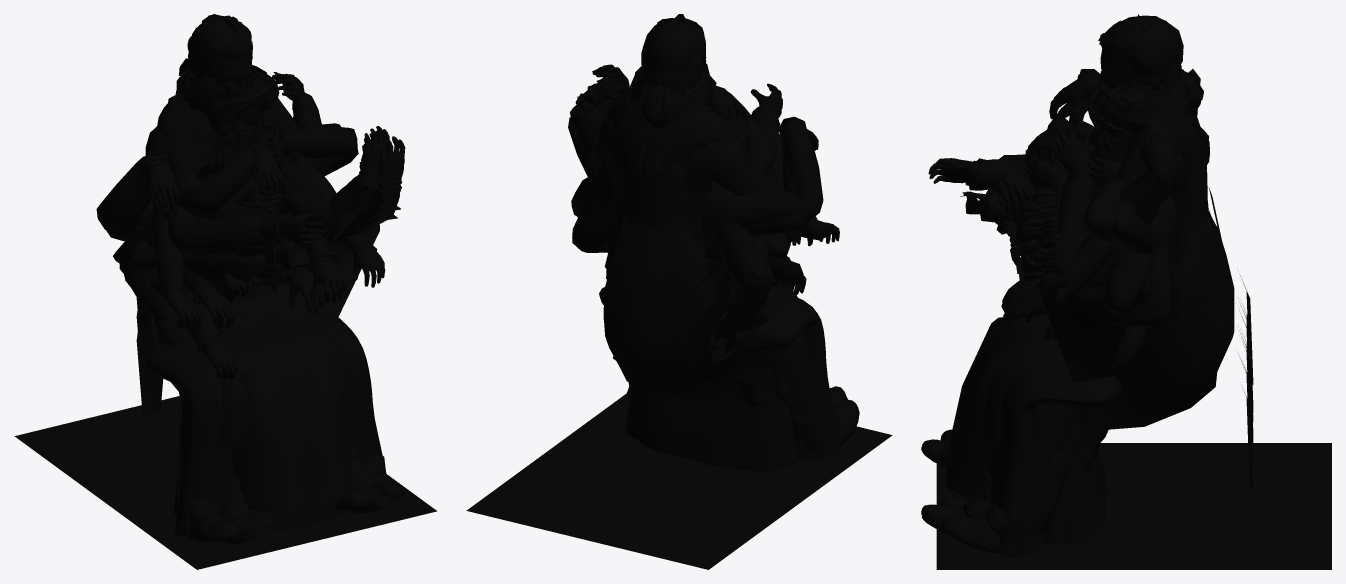
File: orchestra.glb
3 renders of one model, left to right at view 1: azimuth 30°, elevation 25°; view 2: azimuth 150°, elevation 25°; view 3: azimuth 270°, elevation 25°, orthographic. The views are drawn at different scales.
Parts seen in each view (by area): view 1: Female_Adult_10 · body (×2), Contactschaduw, Avondjurk (×3), Business_Male_02 · body (×4), Business_Male_03 · body (×3), Business_Male_04 · body (×6), Business_Male_05 · body (×4), Rok (×2), Business_Male_01 · body (×3), Male_Adult_04 · opacity (×2), Slippen, Business_Male_03 · head (+6 smaller); view 2: Contactschaduw, Female_Adult_10 · body (×2), Avondjurk (×2), Business_Male_03 · body (×4), Business_Female_03 · body (×2), Business_Male_02 · body (×3), Business_Male_04 · body (×4), Business_Male_05 · body (×3), Male_Adult_09 · head, Male_Adult_09 · opacity, Male_Adult_04 · opacity, Business_Male_01 · body (+4 smaller); view 3: Contactschaduw, Female_Adult_10 · body (×2), Business_Male_02 · body (×5), Avondjurk (×2), Business_Male_03 · body (×4), Business_Male_04 · body (×5), Business_Male_05 · body (×4), Business_Female_03 · body, Rok (×2), Male_Adult_04 · opacity (×2), Business_Male_01 · body (×3), Business_Female_02 · body (×3) (+8 smaller).
Boxes of the visible parts, bbox=[...] form: Female_Adult_10 · body (×2): bbox=[150, 119, 379, 518]; Contactschaduw: bbox=[14, 396, 436, 569]; Avondjurk (×3): bbox=[146, 280, 382, 536]; Business_Male_02 · body (×4): bbox=[96, 139, 404, 542]; Business_Male_03 · body (×3): bbox=[119, 122, 393, 543]; Business_Male_04 · body (×6): bbox=[106, 73, 397, 541]; Business_Male_05 · body (×4): bbox=[106, 126, 405, 529]; Rok (×2): bbox=[172, 284, 358, 445]; Business_Male_01 · body (×3): bbox=[123, 141, 401, 521]; Male_Adult_04 · opacity (×2): bbox=[175, 65, 279, 122]; Slippen: bbox=[136, 307, 163, 416]; Business_Male_03 · head: bbox=[212, 51, 252, 99]; Contactschaduw: bbox=[466, 393, 892, 569]; Female_Adult_10 · body (×2): bbox=[601, 99, 767, 397]; Avondjurk (×2): bbox=[599, 259, 840, 472]; Business_Male_03 · body (×4): bbox=[572, 85, 853, 431]; Business_Female_03 · body (×2): bbox=[573, 82, 767, 327]; Business_Male_02 · body (×3): bbox=[571, 83, 859, 459]; Business_Male_04 · body (×4): bbox=[575, 83, 853, 458]; Business_Male_05 · body (×3): bbox=[568, 64, 818, 346]; Male_Adult_09 · head: bbox=[641, 20, 693, 128]; Male_Adult_09 · opacity: bbox=[635, 14, 693, 129]; Male_Adult_04 · opacity: bbox=[627, 60, 716, 127]; Business_Male_01 · body: bbox=[730, 162, 839, 394]; Contactschaduw: bbox=[936, 443, 1331, 569]; Female_Adult_10 · body (×2): bbox=[945, 134, 1234, 503]; Business_Male_02 · body (×5): bbox=[928, 69, 1181, 556]; Avondjurk (×2): bbox=[989, 274, 1179, 555]; Business_Male_03 · body (×4): bbox=[921, 117, 1191, 537]; Business_Male_04 · body (×5): bbox=[921, 96, 1179, 556]; Business_Male_05 · body (×4): bbox=[939, 154, 1180, 510]; Business_Female_03 · body: bbox=[1124, 110, 1213, 295]; Rok (×2): bbox=[983, 271, 1198, 445]; Male_Adult_04 · opacity (×2): bbox=[1089, 70, 1189, 137]; Business_Male_01 · body (×3): bbox=[949, 162, 1177, 511]; Business_Female_02 · body (×3): bbox=[960, 189, 1097, 288].
Bounding box in the file's own units: 1.06 × 1.74 × 1.3.
Materials: 1 (1 with a texture image).
